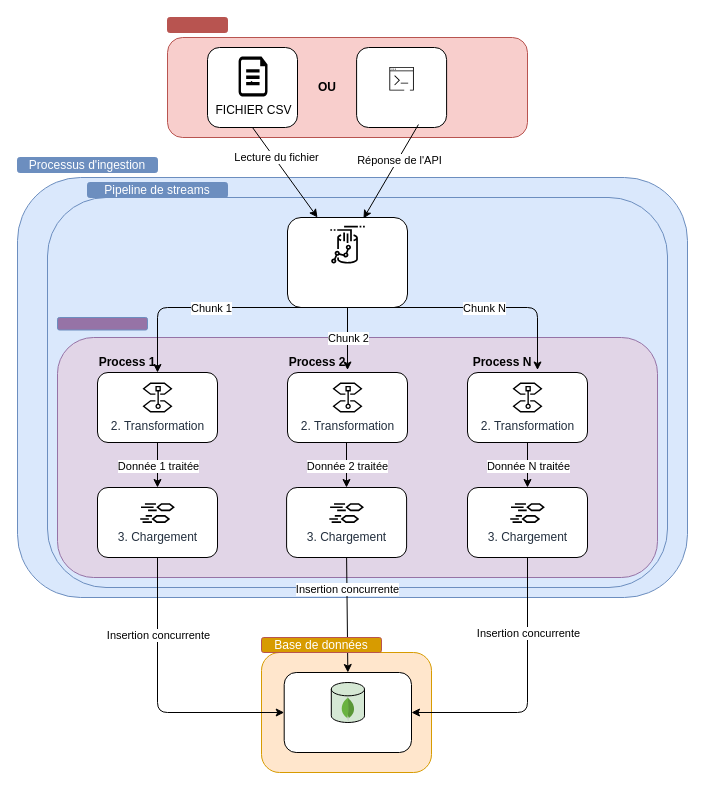
This 705x790 diagram has some shape labels left out. Each missing label, with the centre of its shape:
1. Extraction (Read stream): the point at 347,244
API InserSup: the point at 401,78
MongoDB: the point at 347,708
Parallélisation: the point at 102,323
Sources: the point at 197,24
